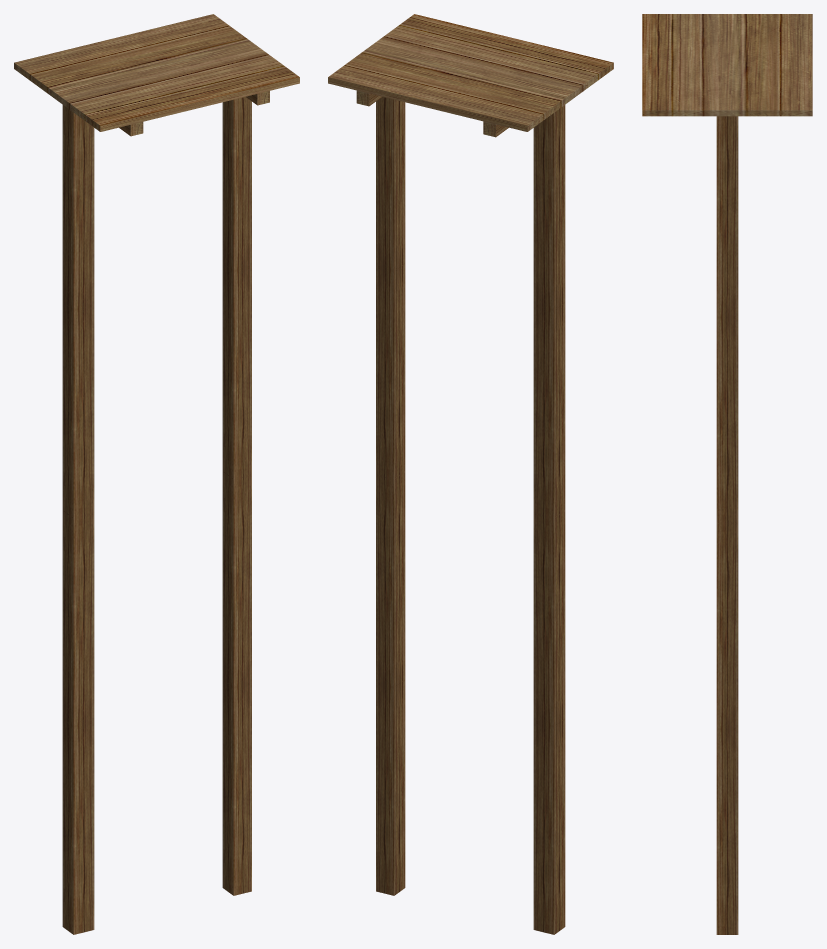
Rendered from Low_BridgeWoodRoad02.FBX.
3 views of the same model, side by side, from view 1: azimuth 30°, elevation 25°; view 2: azimuth 150°, elevation 25°; view 3: azimuth 270°, elevation 25° (orthographic).
Visible parts, largest first — view 1: poles, Low_BridgeWoodRoad02; view 2: poles, Low_BridgeWoodRoad02; view 3: poles, Low_BridgeWoodRoad02.
Part boxes in pixels (x1,y1,x2,y2): poles: (62, 97, 251, 934); Low_BridgeWoodRoad02: (14, 14, 299, 136); poles: (376, 97, 565, 934); Low_BridgeWoodRoad02: (328, 14, 613, 137); poles: (716, 116, 738, 934); Low_BridgeWoodRoad02: (642, 14, 812, 116).
Size of the model in its own units: 368 by 1479 by 275.
